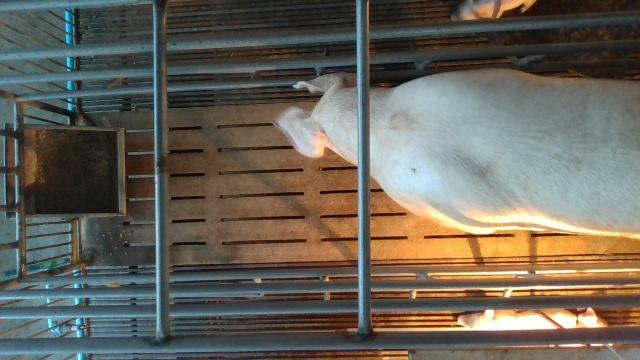piglet: (457, 308, 578, 331), (450, 0, 537, 20)
sow-stand: (271, 67, 640, 238)
